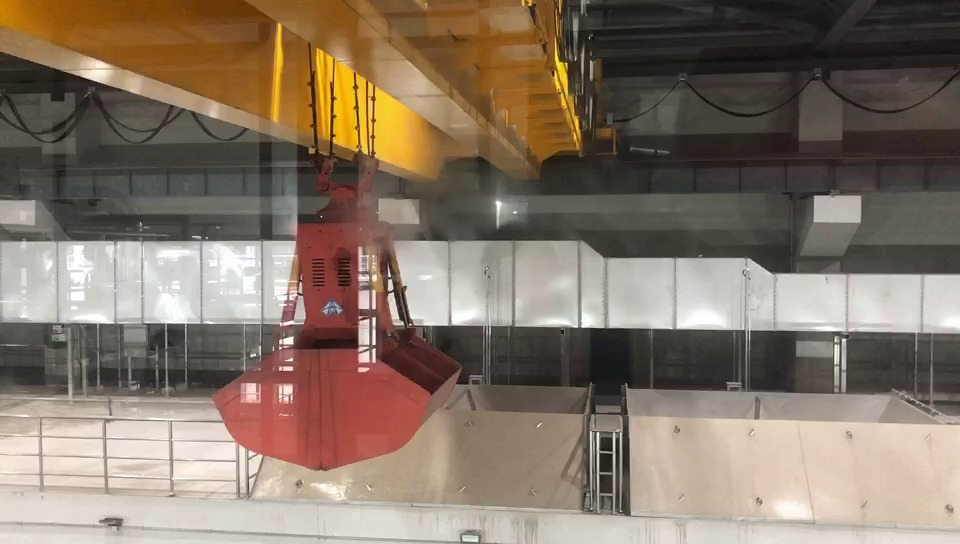grab: (203, 144, 473, 475)
